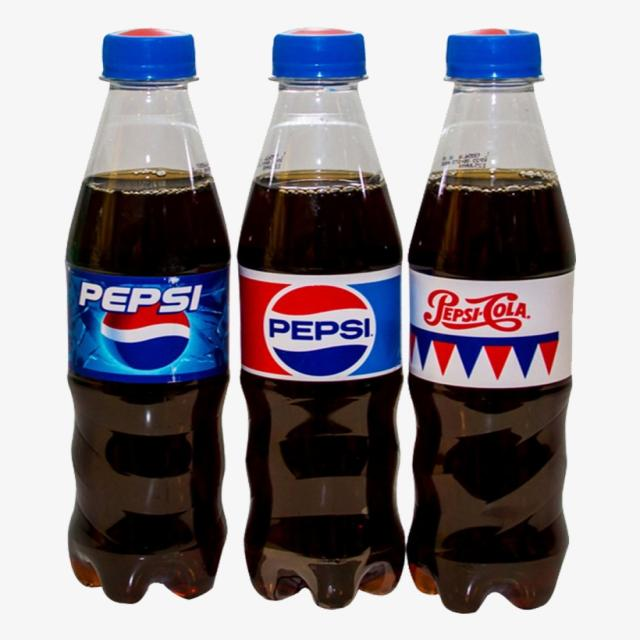bottle: (407, 28, 579, 617), (236, 24, 407, 610), (64, 24, 230, 605)
